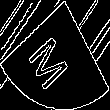M_NE: (30, 22, 80, 88)
